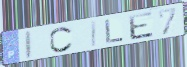7: (158, 6, 178, 37)
C: (49, 26, 74, 54)
E: (127, 10, 156, 42)
I: (24, 29, 34, 61), (91, 19, 98, 49)
L: (104, 18, 126, 45)
